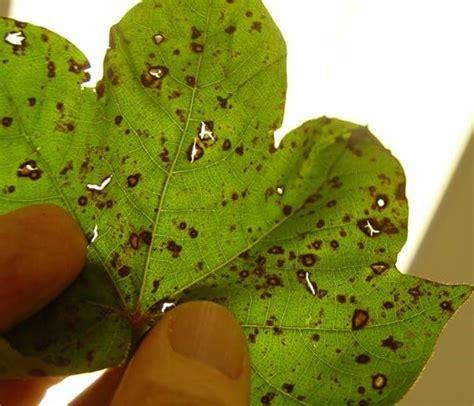black-spot: (227, 189, 344, 302)
